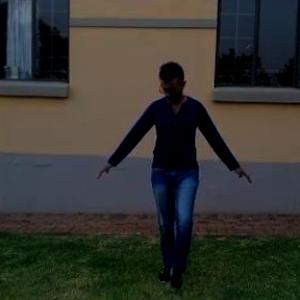land: (83, 40, 244, 286)
